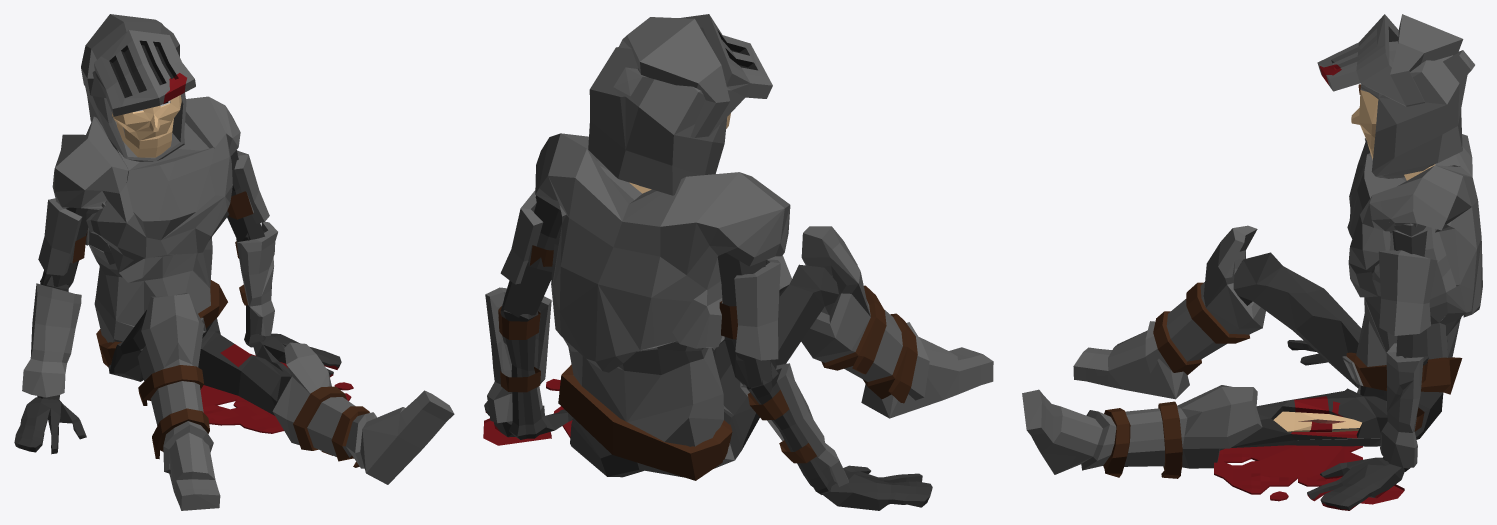
The model's file is Black Knight (1).fbx.
3 views of the same model, side by side, from view 1: azimuth 30°, elevation 25°; view 2: azimuth 150°, elevation 25°; view 3: azimuth 270°, elevation 25° (orthographic). The views are drawn at different scales.
Visible parts, largest first — view 1: SM_Prop_Skeleton_Slave_Wall_Sitting_01.001, Head, LeftShoe, RightShoe, RightGlove, Rightfoot, LeftGlove, RightUpperArm, Blood, RightHand, LeftUpperarm; view 2: SM_Prop_Skeleton_Slave_Wall_Sitting_01.001, Head, RightShoe, LeftGlove, RightUpperArm, Rightfoot, RightGlove, RightHand, LeftUpperarm, Blood; view 3: SM_Prop_Skeleton_Slave_Wall_Sitting_01.001, Head, LeftShoe, RightShoe, Blood, LeftUpperarm, Rightfoot, LeftGlove.
Part boxes in pixels (x1,y1,x2,y2): SM_Prop_Skeleton_Slave_Wall_Sitting_01.001: [37, 96, 341, 415]; Head: [81, 14, 195, 161]; LeftShoe: [272, 342, 454, 484]; RightShoe: [137, 293, 213, 473]; RightGlove: [22, 283, 81, 397]; Rightfoot: [169, 432, 220, 510]; LeftGlove: [235, 222, 277, 336]; RightUpperArm: [38, 198, 87, 275]; Blood: [200, 362, 353, 433]; RightHand: [14, 397, 86, 454]; LeftUpperarm: [227, 150, 269, 223]; SM_Prop_Skeleton_Slave_Wall_Sitting_01.001: [484, 133, 838, 494]; Head: [588, 14, 772, 195]; RightShoe: [801, 226, 929, 403]; LeftGlove: [485, 287, 551, 423]; RightUpperArm: [719, 259, 780, 360]; Rightfoot: [861, 337, 993, 418]; RightGlove: [740, 363, 848, 486]; RightHand: [821, 465, 932, 510]; LeftUpperarm: [500, 190, 553, 284]; Blood: [483, 379, 572, 445]; SM_Prop_Skeleton_Slave_Wall_Sitting_01.001: [1220, 134, 1482, 510]; Head: [1317, 14, 1474, 180]; LeftShoe: [1022, 385, 1262, 478]; RightShoe: [1145, 225, 1265, 375]; Blood: [1214, 445, 1404, 504]; LeftUpperarm: [1378, 250, 1437, 335]; Rightfoot: [1073, 330, 1189, 399]; LeftGlove: [1380, 343, 1427, 467].
Size of the model in its own units: 1327 by 1454 by 1470.
